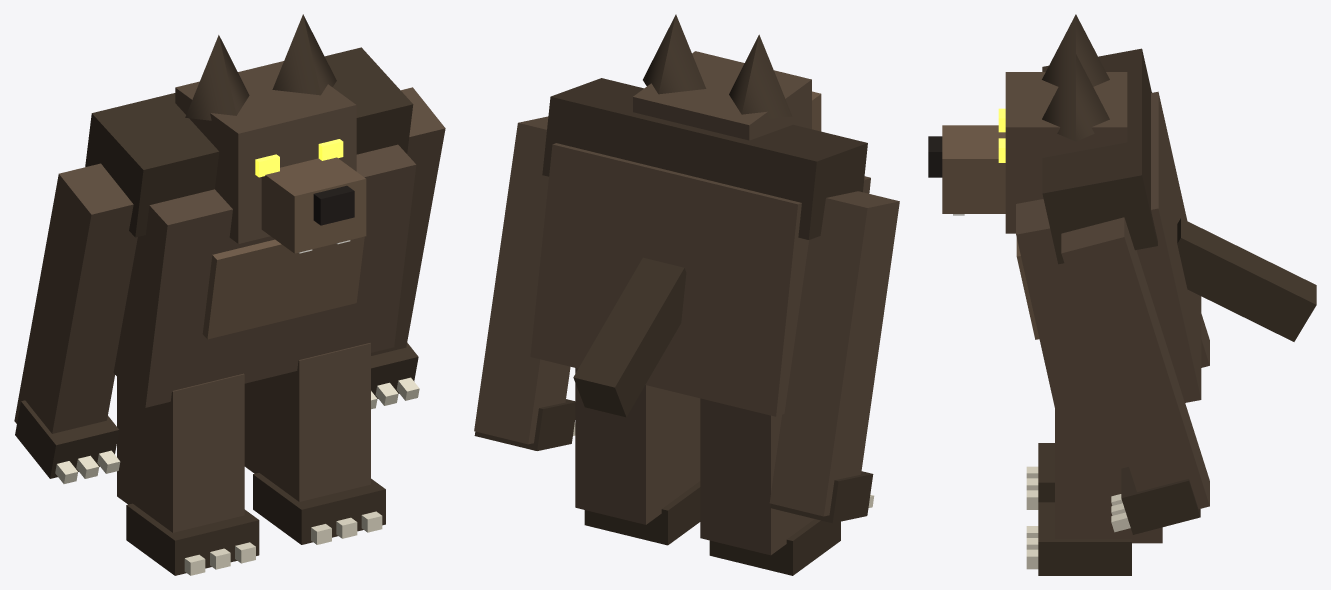
File: monsters__werewolf.glb
3 renders of one model, left to right at view 1: azimuth 30°, elevation 25°; view 2: azimuth 150°, elevation 25°; view 3: azimuth 270°, elevation 25°, orthographic. The views are drawn at different scales.
Parts seen in each view (by area): view 1: monsters__werewolf, rig_armL, rig_legL, rig_legR, rig_armR; view 2: monsters__werewolf, rig_armL, rig_armR, rig_legR, rig_legL; view 3: monsters__werewolf, rig_armR, rig_legR, rig_legL.
Boxes of the visible parts, bbox=[...] form: monsters__werewolf: bbox=[85, 14, 416, 407]; rig_armL: bbox=[14, 163, 137, 483]; rig_legL: bbox=[117, 373, 259, 575]; rig_legR: bbox=[244, 343, 385, 544]; rig_armR: bbox=[371, 87, 445, 409]; monsters__werewolf: bbox=[530, 14, 870, 417]; rig_armL: bbox=[769, 191, 899, 523]; rig_armR: bbox=[474, 116, 575, 450]; rig_legR: bbox=[575, 368, 700, 545]; rig_legL: bbox=[700, 398, 840, 575]; monsters__werewolf: bbox=[928, 14, 1316, 425]; rig_armR: bbox=[1061, 217, 1209, 534]; rig_legR: bbox=[1026, 409, 1162, 575]; rig_legL: bbox=[1026, 443, 1054, 509].
Size of the model in its own units: 1.72 by 2.32 by 1.66.
